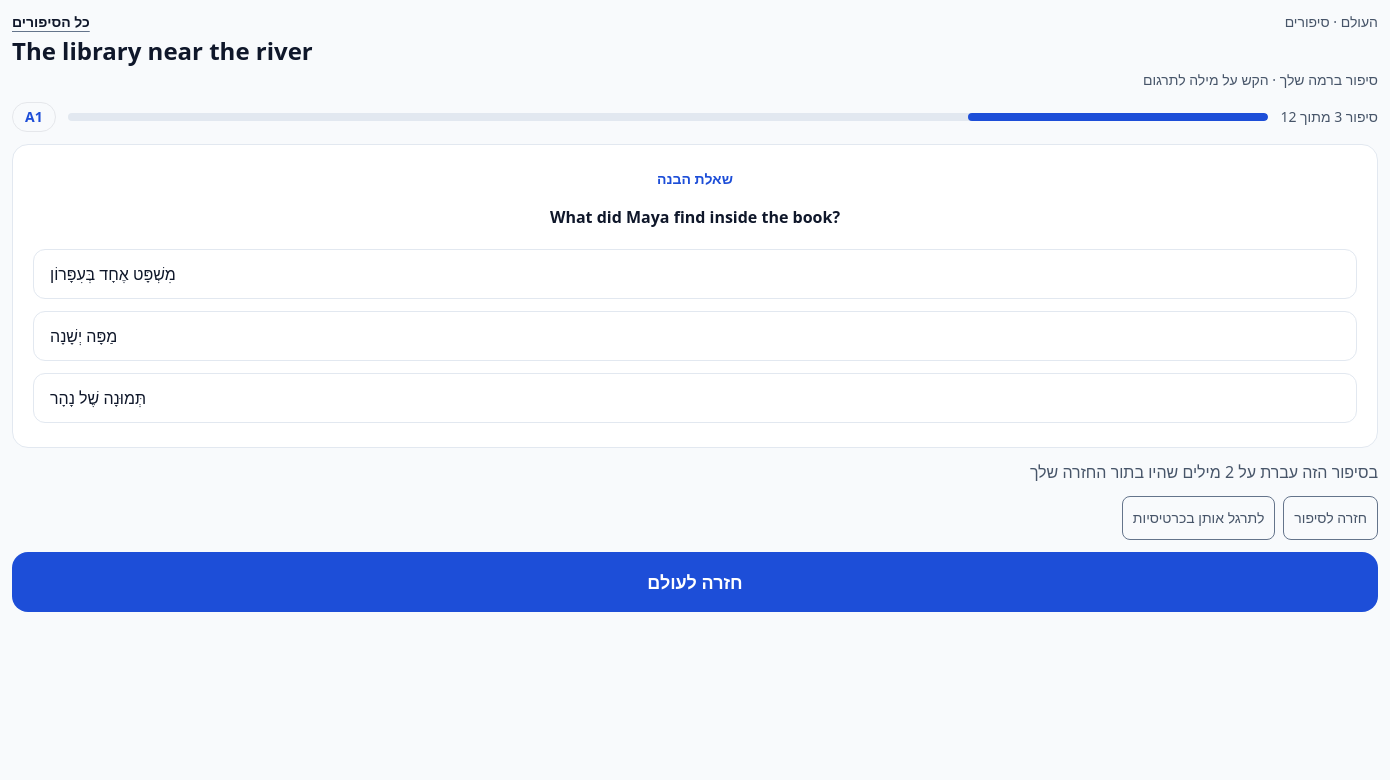
T-381 — חזרה לגוף הסיפור, ⛔ ובלי לאבד את הבחירה › 🔴 ⓐ ⛔ הבחירה ⛔ אינה מתאפסת בחזרה-והלוך — ⛔ ואי אפשר לנחש שוב
Note: ⛔ תשובה שגויה במכוון: `correctIndex` הוא 0, והלומד בוחר את השנייה.
Step 1. Click the button "מַפָּה יְשָׁנָה" → (84, 336), box left=33, top=311, right=1357, bottom=361
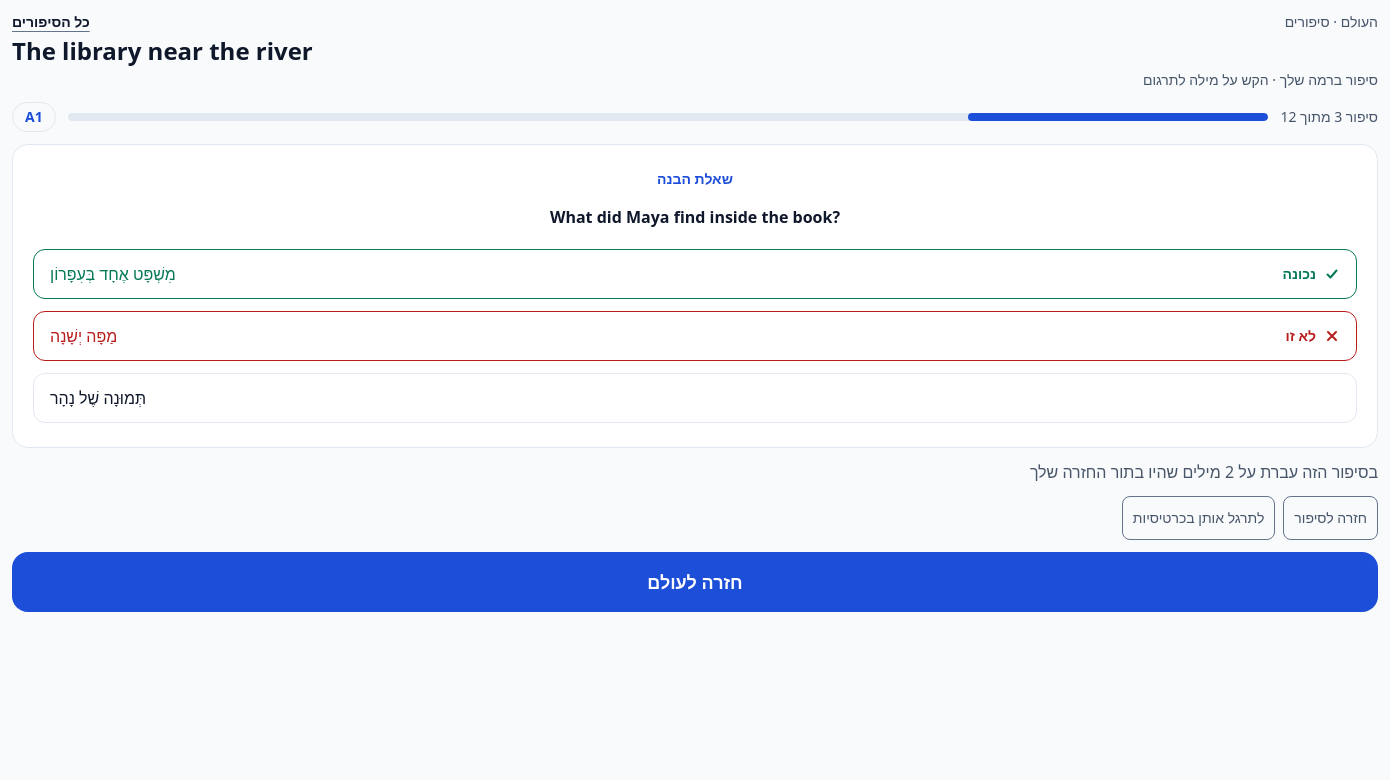
Expected: the text "לא זו" is shown, left=1286, top=326, right=1340, bottom=346
Step 2. Click the button "חזרה לסיפור" → (1331, 518), box left=1283, top=496, right=1378, bottom=540
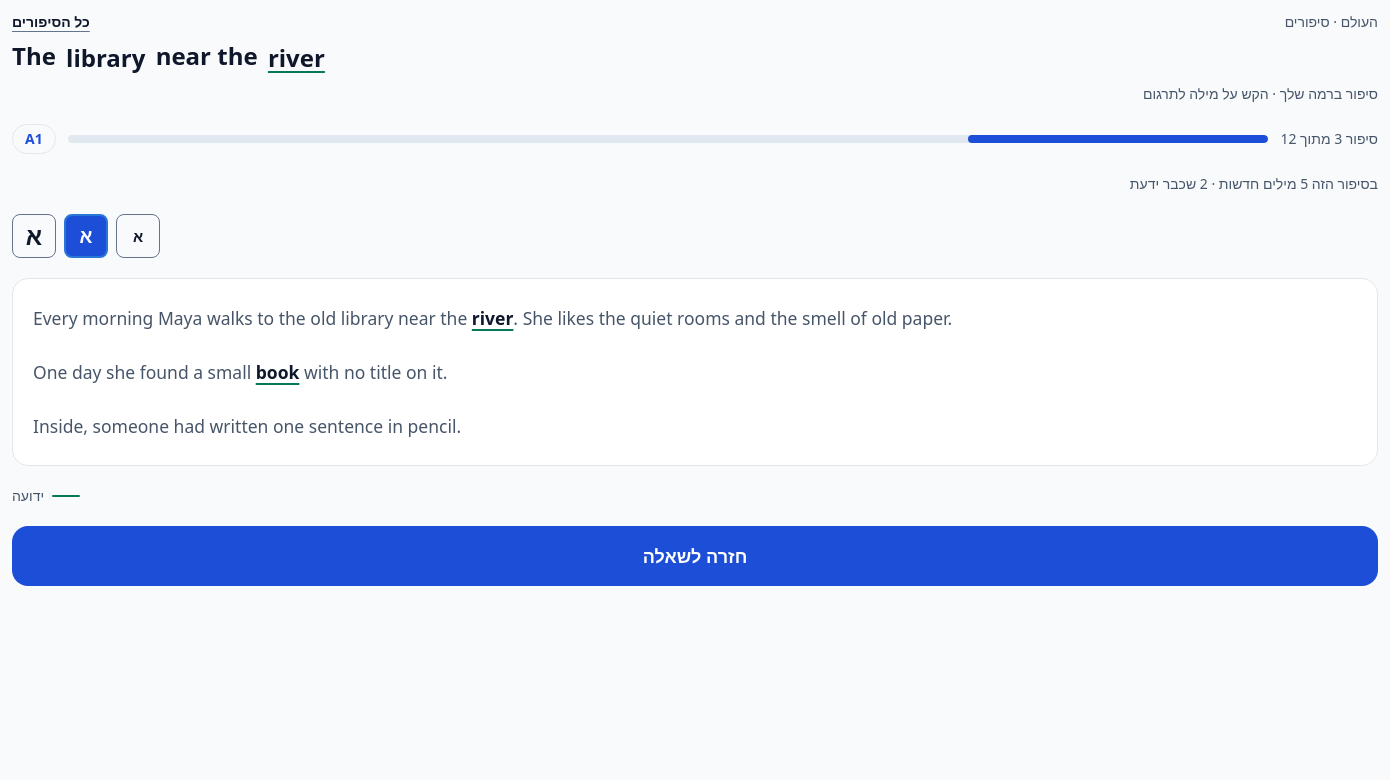
Step 3. Click the button "חזרה לשאלה" → (695, 556), box left=12, top=526, right=1378, bottom=586
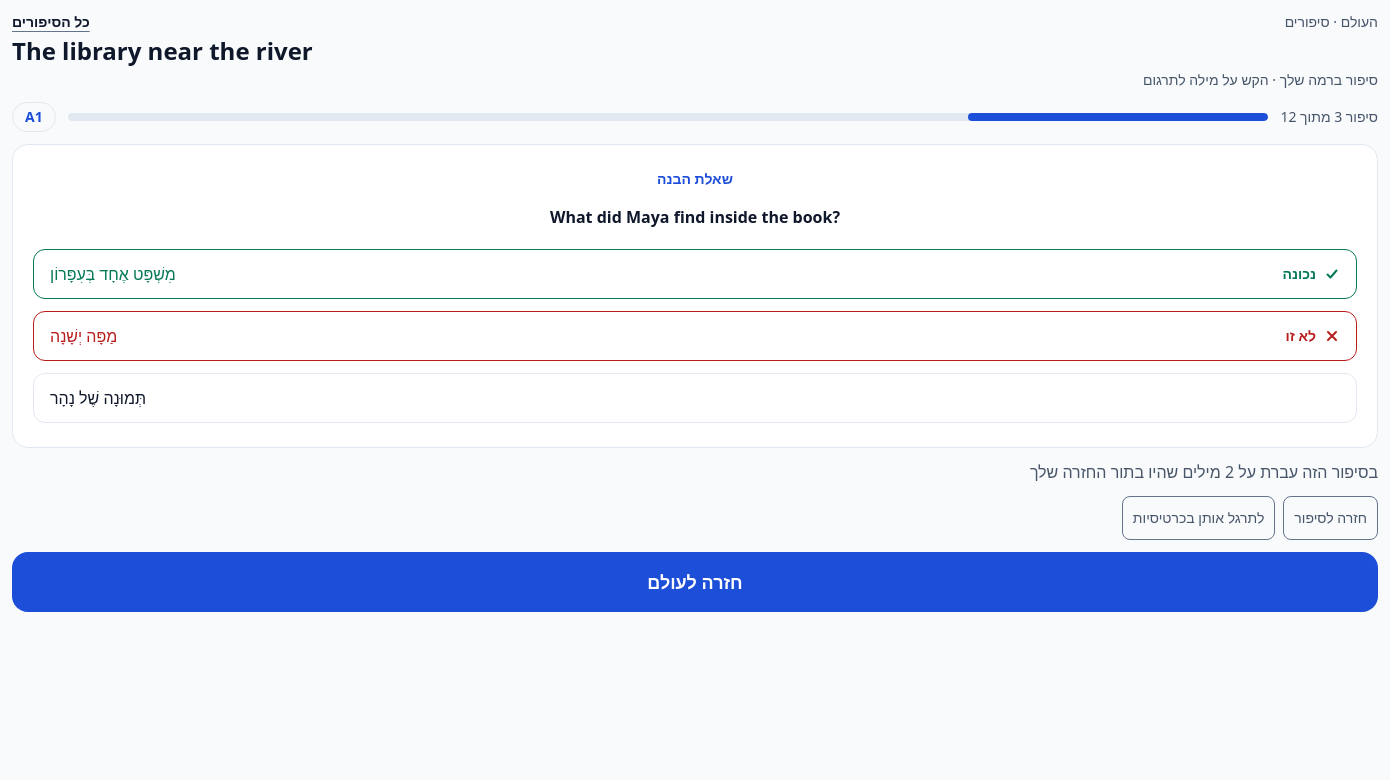
Expected: the text "לא זו" is shown, left=1286, top=326, right=1340, bottom=346
Expected: the text "נכונה" is shown, left=1282, top=264, right=1340, bottom=284
Expected: the button "נכונה מִשְׁפָּט אֶחָד בְּעִפָּרוֹן" is disabled, left=33, top=249, right=1357, bottom=299
